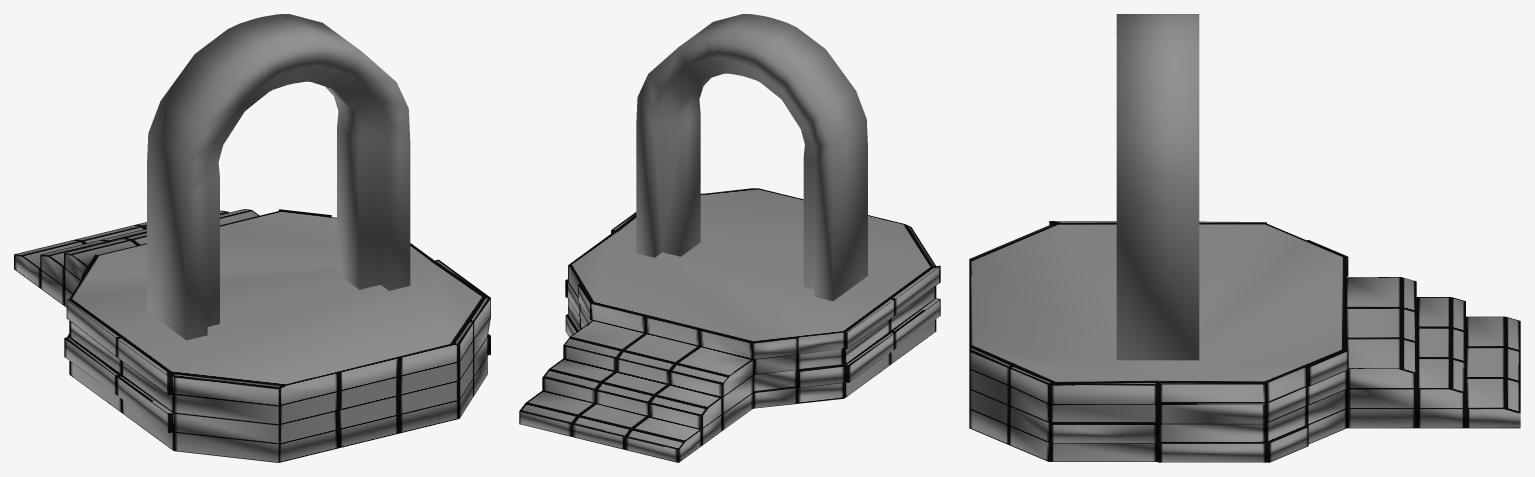
The model's file is Ruins_Archway.fbx.
The picture shows the model from 3 angles, left to right: view 1: azimuth 30°, elevation 25°; view 2: azimuth 150°, elevation 25°; view 3: azimuth 270°, elevation 25°; orthographic projection. The views are drawn at different scales.
Visible parts, largest first — view 1: ArchwayElevation, Archway; view 2: ArchwayElevation, Archway; view 3: ArchwayElevation, Archway.
Boxes of the visible parts, box(x1,y1,x2,y2) form: ArchwayElevation: box(14, 209, 490, 462); Archway: box(147, 14, 410, 340); ArchwayElevation: box(519, 188, 940, 462); Archway: box(636, 14, 867, 301); ArchwayElevation: box(969, 221, 1520, 462); Archway: box(1116, 14, 1199, 360).
Bounding box in the file's own units: 3.13 × 4.45 × 3.18.
Materials: 2 (2 with a texture image).
